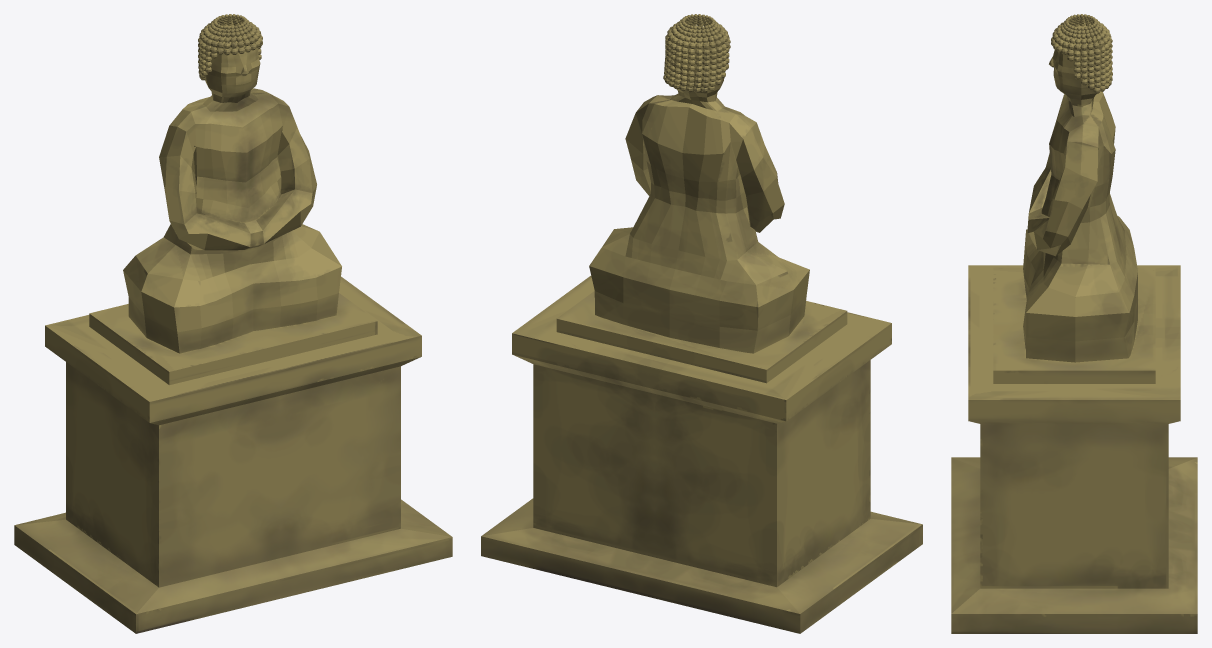
File: f_budda_scp.fbx
3 renders of one model, left to right at view 1: azimuth 30°, elevation 25°; view 2: azimuth 150°, elevation 25°; view 3: azimuth 270°, elevation 25°, orthographic.
Parts seen in each view (by area): view 1: Cube; view 2: Cube; view 3: Cube.
Boxes of the visible parts, x1,y1,x2,y2 form: Cube: [14, 14, 452, 633]; Cube: [481, 14, 922, 633]; Cube: [951, 14, 1197, 633].
Size of the model in its own units: 517 by 824 by 344.
1 material, 1 textured.
